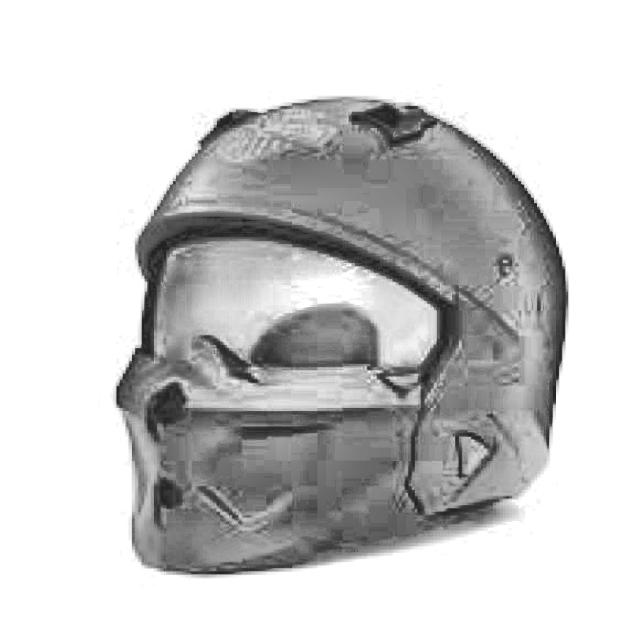Helmet: (116, 96, 568, 572)
